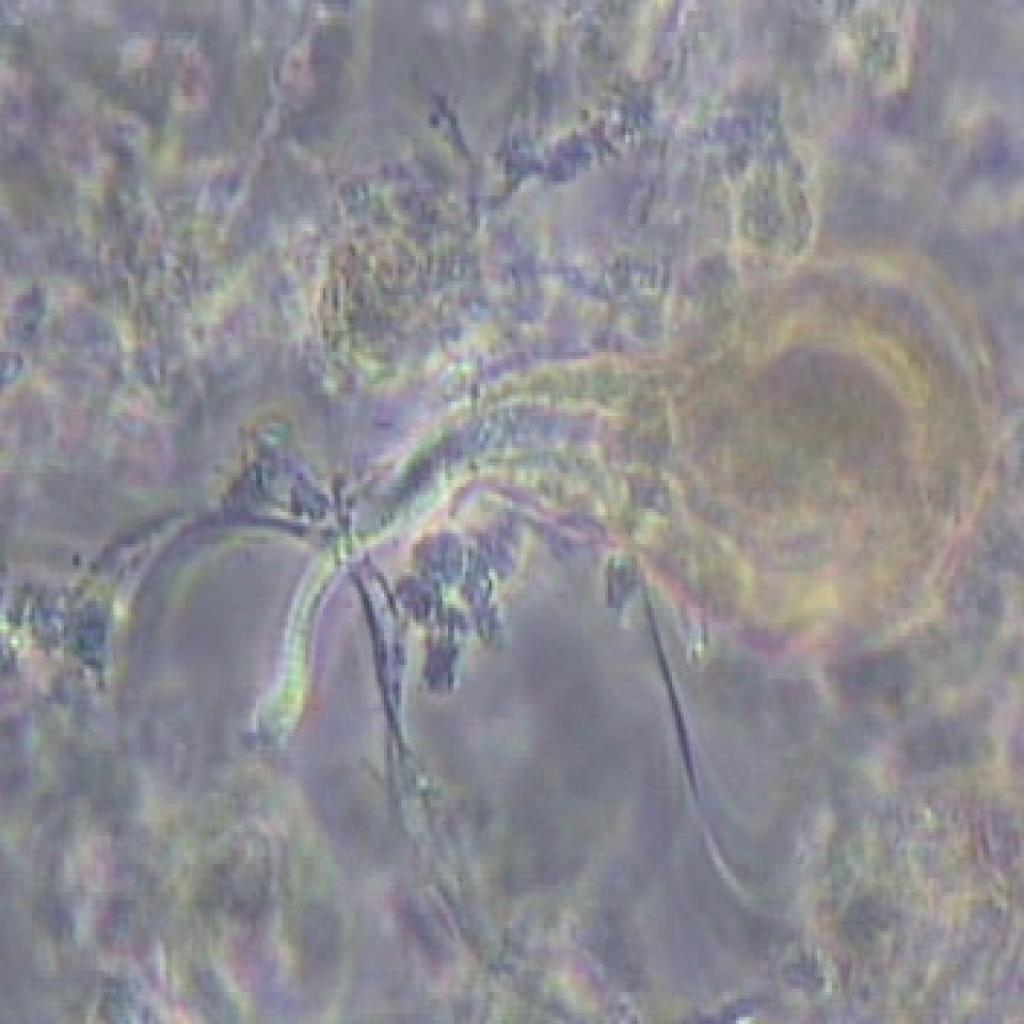Chaetopira: (300, 292, 966, 672)
